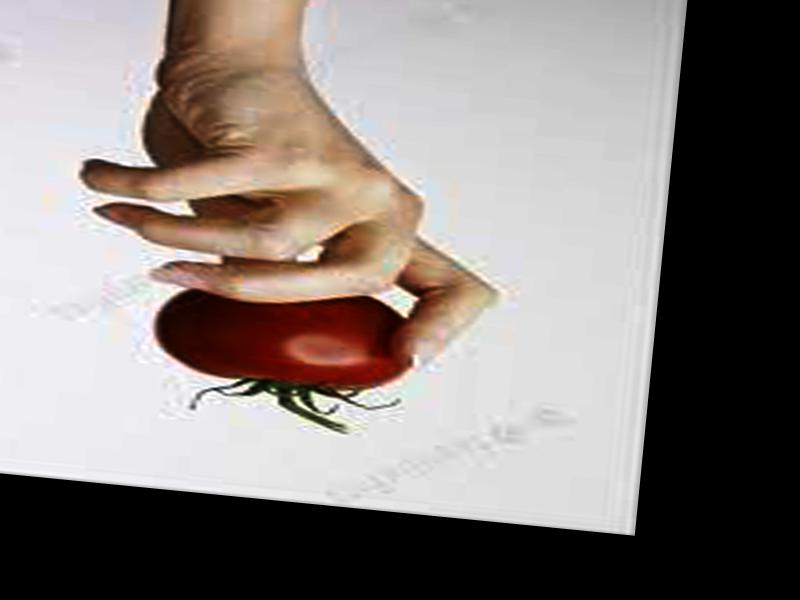Tomato: (151, 278, 413, 436)
